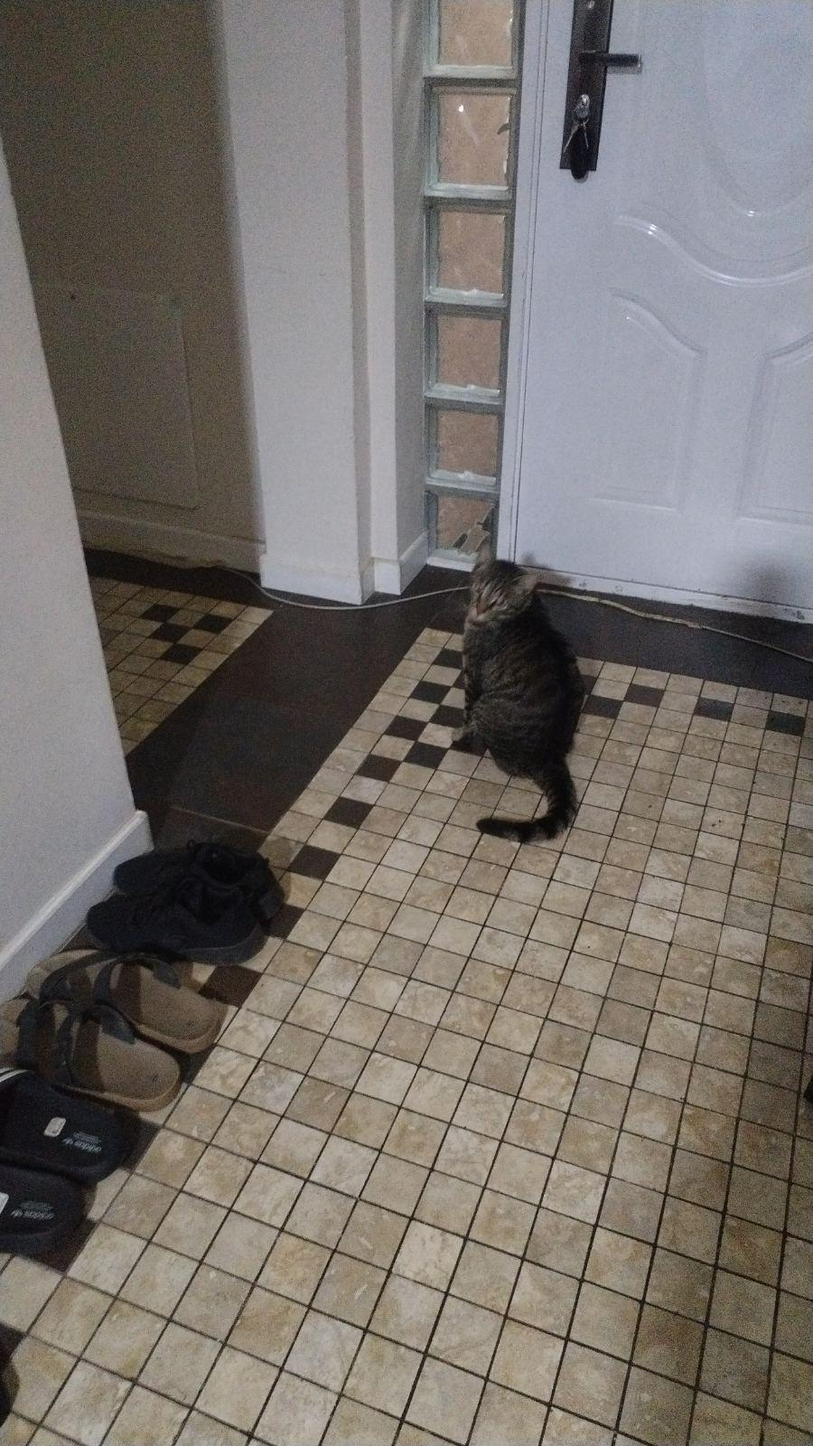macka: (450, 541, 587, 844)
